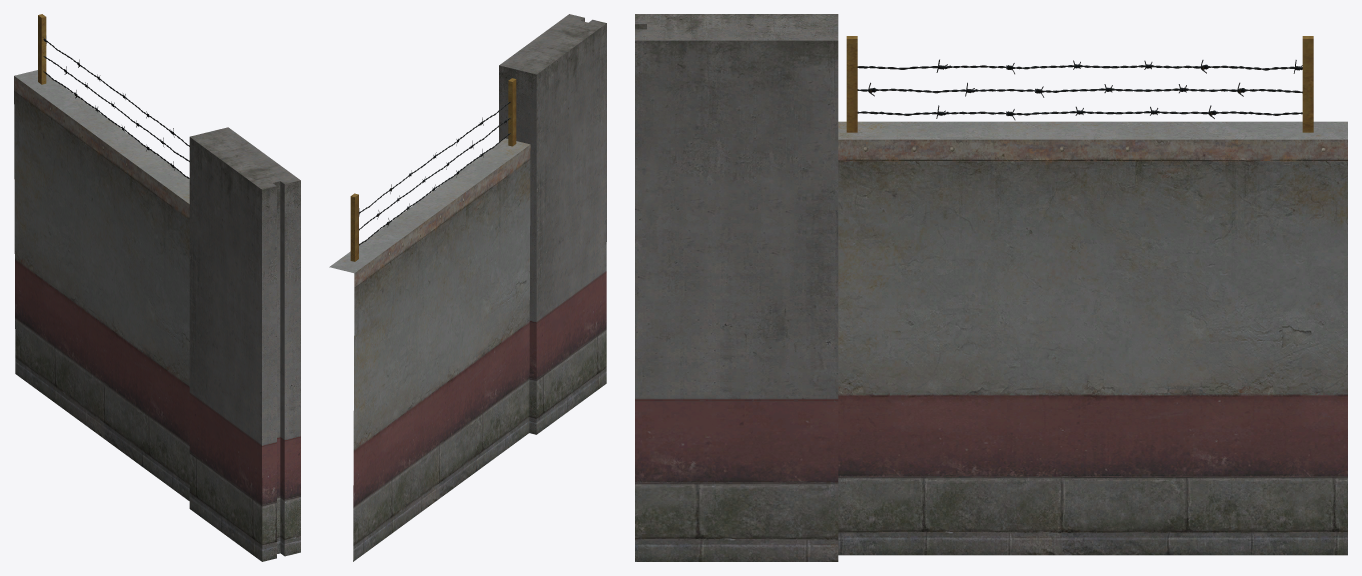
The model's file is Cover_Jz0013a.glb.
3 views of the same model, side by side, from view 1: azimuth 30°, elevation 25°; view 2: azimuth 150°, elevation 25°; view 3: azimuth 270°, elevation 25° (orthographic). The views are drawn at different scales.
Parts seen in each view (by area): view 1: xiutz_jz0013a; view 2: xiutz_jz0013a; view 3: xiutz_jz0013a.
Boxes of the visible parts, x1=… form: xiutz_jz0013a: x1=14, y1=14, x2=300, y2=561; xiutz_jz0013a: x1=329, y1=14, x2=606, y2=561; xiutz_jz0013a: x1=635, y1=14, x2=1347, y2=561.
Bounding box in the file's own units: 0.4816 × 4.41 × 5.46.
Materials: 1 (1 with a texture image).
